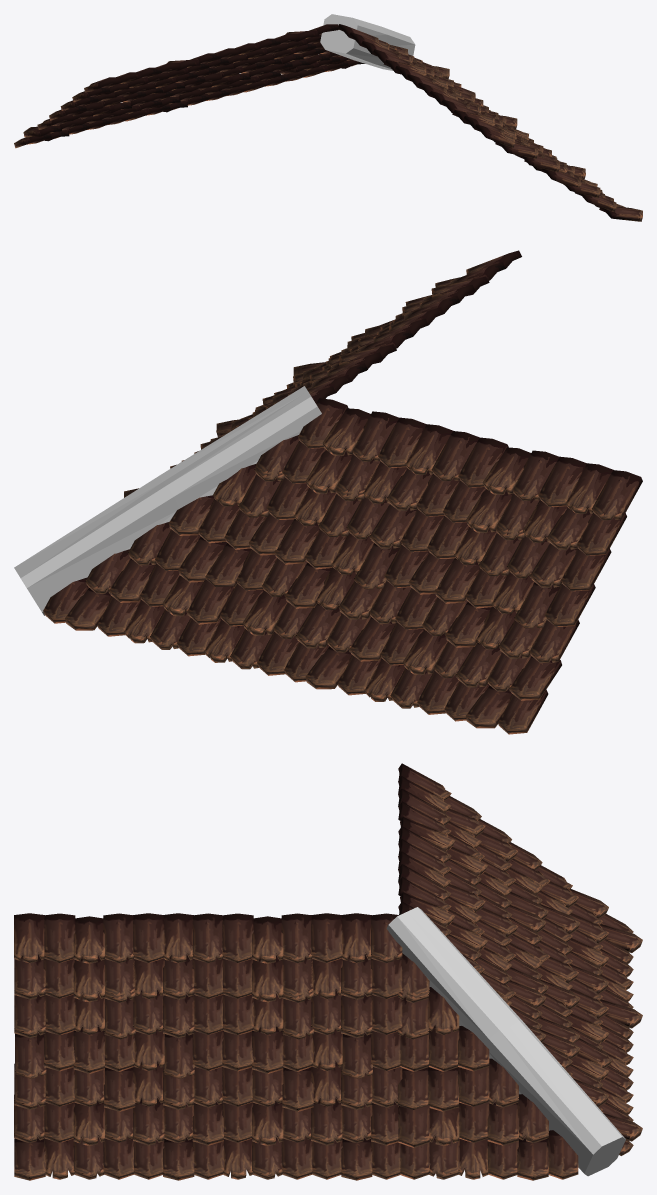
The model's file is VV-RoofTile21.fbx.
3 renders of one model, top to bottom at view 1: azimuth 30°, elevation 25°; view 2: azimuth 150°, elevation 25°; view 3: azimuth 270°, elevation 25°, orthographic. The views are drawn at different scales.
Parts seen in each view (by area): view 1: RoofTile.21; view 2: RoofTile.21; view 3: RoofTile.21.
Boxes of the visible parts, box(x1,y1,x2,y2) form: RoofTile.21: box(14, 14, 642, 221); RoofTile.21: box(14, 250, 642, 734); RoofTile.21: box(14, 763, 642, 1180).
Size of the model in its own units: 6.07 by 2.03 by 6.35.
